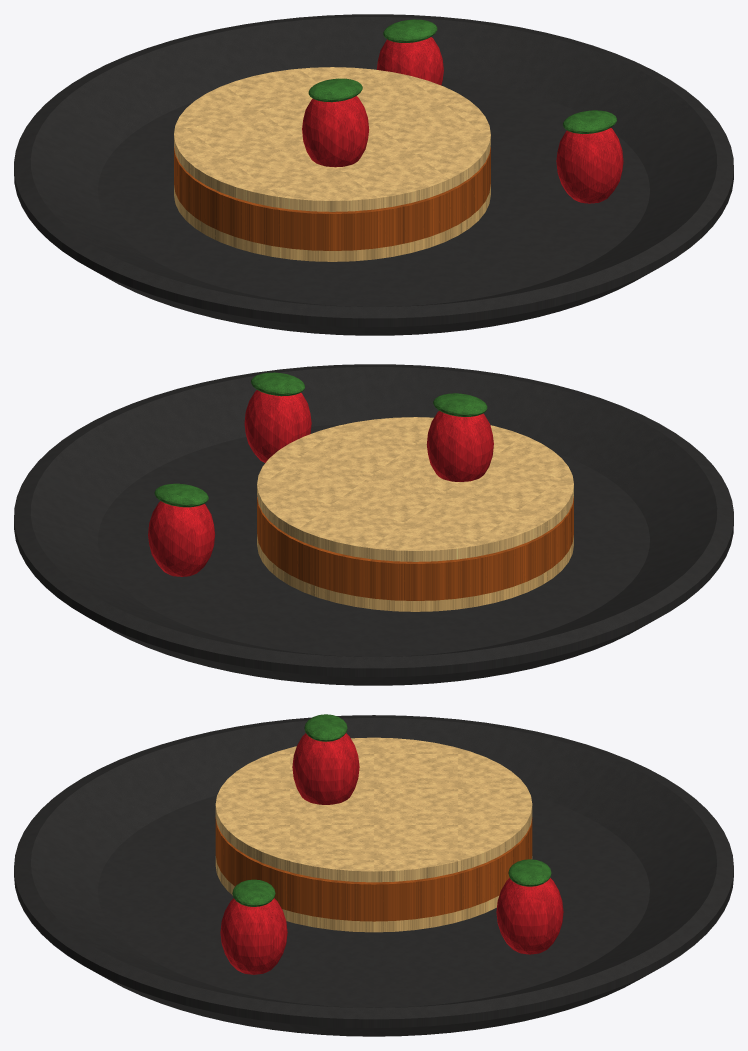
Rendered from oblea-arequipe.glb.
3 renders of one model, top to bottom at view 1: azimuth 30°, elevation 25°; view 2: azimuth 150°, elevation 25°; view 3: azimuth 270°, elevation 25°, orthographic.
Visible parts, largest first — view 1: part0, part3, part2, part4, part1, part5; view 2: part0, part3, part2, part4, part1, part5; view 3: part0, part3, part4, part2, part5, part1.
Part boxes in pixels (bbox=[...]): part0: bbox=[14, 14, 733, 335]; part3: bbox=[174, 67, 490, 211]; part2: bbox=[174, 146, 490, 250]; part4: bbox=[302, 37, 623, 203]; part1: bbox=[174, 184, 490, 261]; part5: bbox=[308, 19, 616, 133]; part0: bbox=[14, 364, 733, 685]; part3: bbox=[257, 417, 573, 561]; part2: bbox=[257, 496, 573, 600]; part4: bbox=[148, 390, 493, 576]; part1: bbox=[257, 534, 573, 611]; part5: bbox=[154, 372, 487, 507]; part0: bbox=[14, 715, 733, 1036]; part3: bbox=[215, 737, 532, 882]; part4: bbox=[220, 733, 563, 974]; part2: bbox=[215, 817, 532, 921]; part5: bbox=[232, 714, 551, 906]; part1: bbox=[215, 856, 532, 932].
Size of the model in its own units: 0.3 by 0.076 by 0.3.
Materials: 6 (6 with a texture image).
